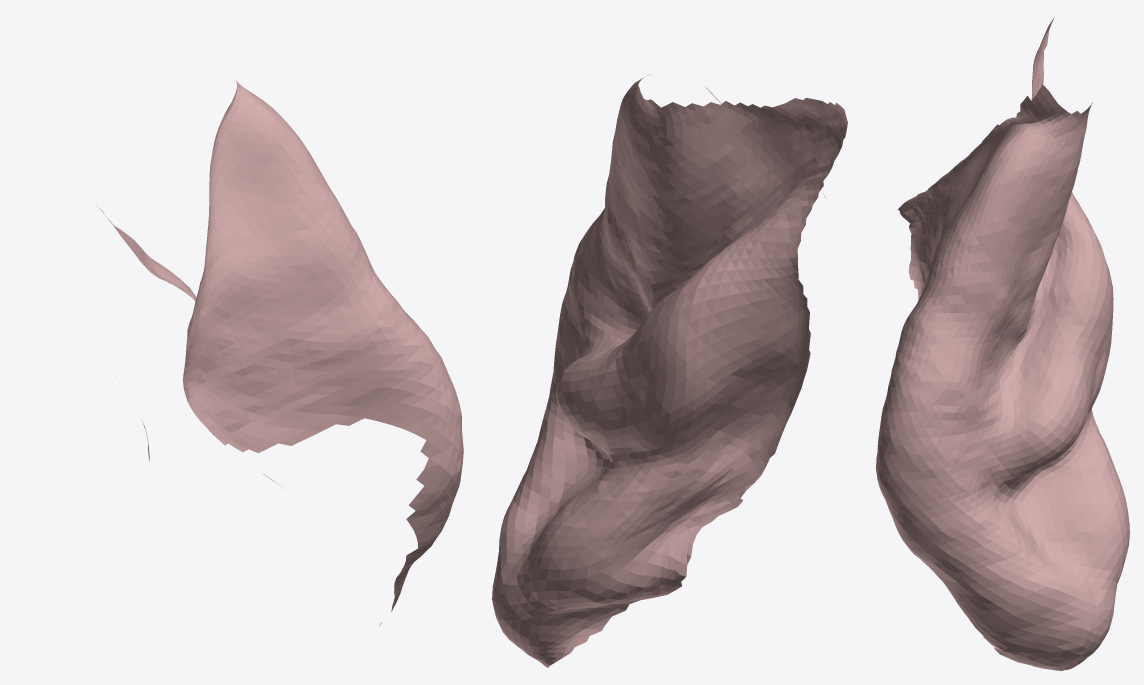
The model's file is lh_lingual.glb.
3 renders of one model, left to right at view 1: azimuth 30°, elevation 25°; view 2: azimuth 150°, elevation 25°; view 3: azimuth 270°, elevation 25°, orthographic. The views are drawn at different scales.
Parts seen in each view (by area): view 1: world; view 2: world; view 3: world.
Boxes of the visible parts, bbox=[...] form: world: bbox=[96, 80, 463, 625]; world: bbox=[492, 74, 847, 667]; world: bbox=[876, 17, 1129, 670].
Bounding box in the file's own units: 31.21 × 55.09 × 22.43.
